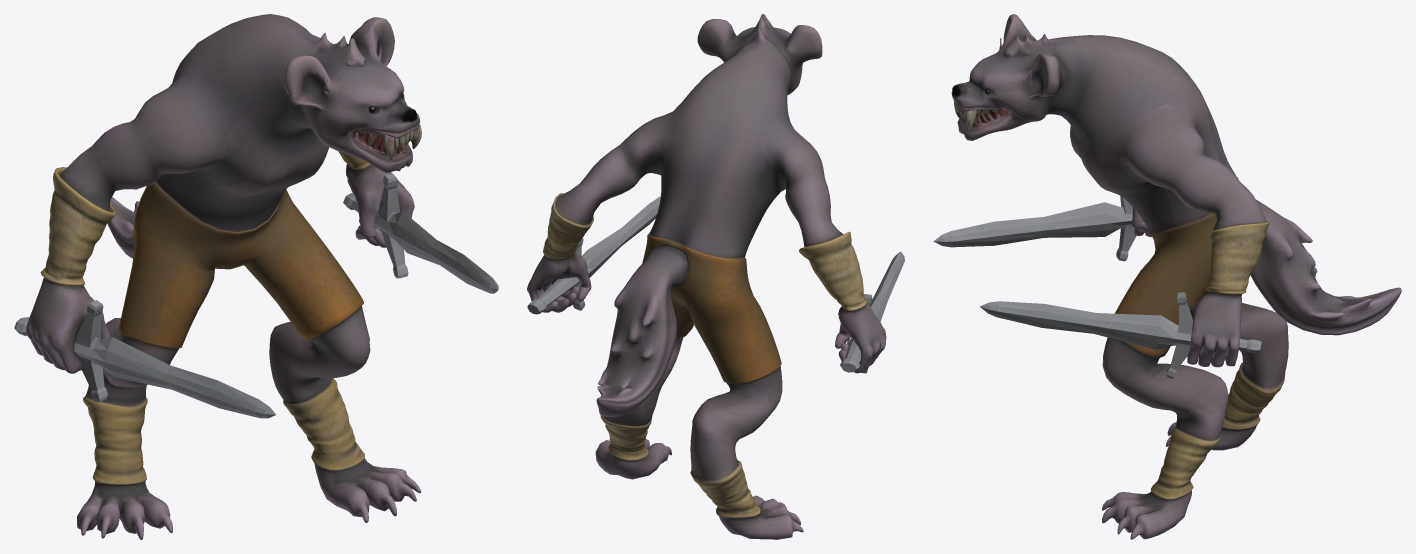
Rendered from MZ4250 - Gnoll Flesh Gnawler.glb.
The picture shows the model from 3 angles, left to right: view 1: azimuth 30°, elevation 25°; view 2: azimuth 150°, elevation 25°; view 3: azimuth 270°, elevation 25°; orthographic projection. The views are drawn at different scales.
Parts seen in each view (by area): view 1: Shortsword.003; view 2: Shortsword.003; view 3: Shortsword.003.
Boxes of the visible parts, left/top/right/bottom form: Shortsword.003: left=14, top=14, right=498, bottom=539; Shortsword.003: left=527, top=14, right=904, bottom=539; Shortsword.003: left=933, top=14, right=1401, bottom=539.
Bounding box in the file's own units: 2.34 × 2.98 × 2.8.
1 material, 1 textured.
